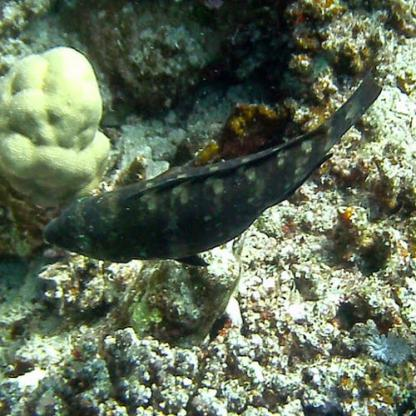Serranidae -Groupers-: (39, 66, 383, 268)
